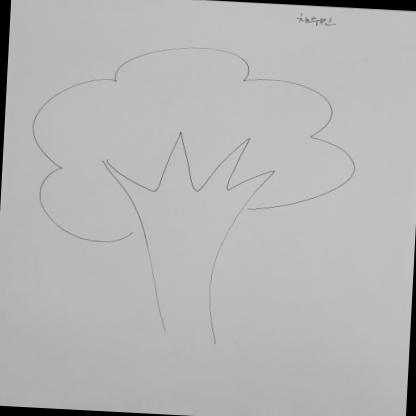branch_sharp: (92, 124, 286, 200)
crown_cloud: (24, 37, 367, 258)
trunk_reflex: (131, 234, 231, 314)
